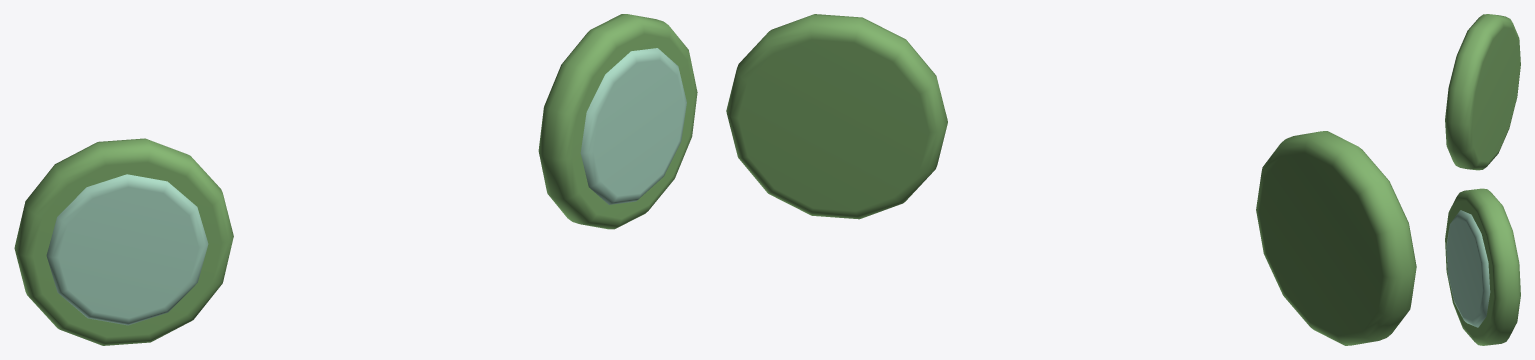
Rendered from cucumber_pack.glb.
3 views of the same model, side by side, from view 1: azimuth 30°, elevation 25°; view 2: azimuth 150°, elevation 25°; view 3: azimuth 270°, elevation 25° (orthographic). The views are drawn at different scales.
Visible parts, largest first — view 1: cucumber_pack_Head; view 2: cucumber_pack_Head; view 3: cucumber_pack_Head.
Boxes of the visible parts, x1=… form: cucumber_pack_Head: x1=14, y1=14, x2=697, y2=345; cucumber_pack_Head: x1=726, y1=14, x2=1416, y2=345; cucumber_pack_Head: x1=1445, y1=14, x2=1520, y2=345.
Size of the model in its own units: 0.3186 by 0.0878 by 0.0426.
